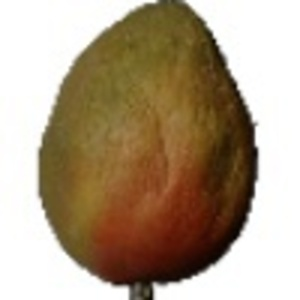mamão: (31, 3, 266, 288)
